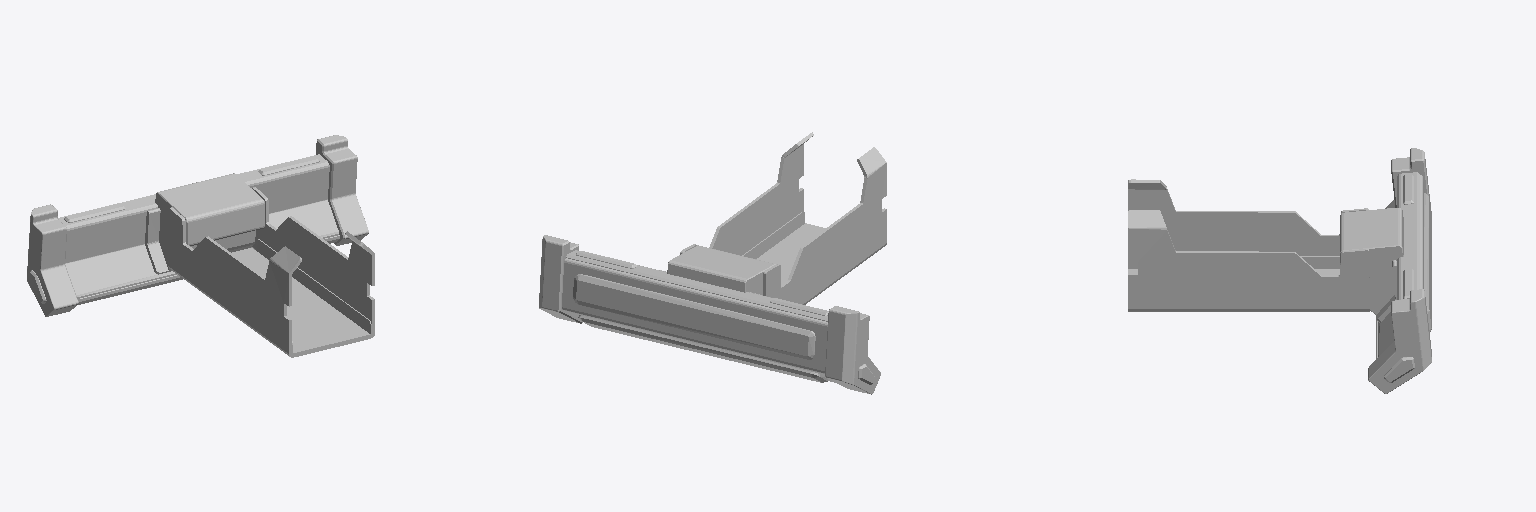
File: 裁判系统.obj
3 renders of one model, left to right at view 1: azimuth 30°, elevation 25°; view 2: azimuth 150°, elevation 25°; view 3: azimuth 270°, elevation 25°, orthographic.
Parts seen in each view (by area): view 1: 45, 2_2.001, 19_19.001, 2.001_2.002, 3_3.002, 81.001, 81, 灯_39, 43; view 2: 灯_39, 2_2.001, 43, 2.001_2.002, 81.001, 19_19.001, 3_3.002, 81, 45; view 3: 2.001_2.002, 2_2.001, 19_19.001, 81, 45, 灯_39, 81.001, 3_3.002, 43.
Part boxes in pixels (left/top/right/bottom): 45: left=58, top=154, right=338, bottom=298; 2_2.001: left=168, top=207, right=331, bottom=357; 19_19.001: left=145, top=173, right=264, bottom=274; 2.001_2.002: left=232, top=187, right=374, bottom=347; 3_3.002: left=236, top=239, right=371, bottom=353; 81.001: left=27, top=204, right=78, bottom=316; 81: left=316, top=135, right=368, bottom=245; 灯_39: left=29, top=156, right=319, bottom=303; 43: left=78, top=235, right=339, bottom=304; 灯_39: left=573, top=251, right=874, bottom=384; 2_2.001: left=763, top=147, right=886, bottom=304; 43: left=562, top=258, right=834, bottom=382; 2.001_2.002: left=680, top=132, right=813, bottom=255; 81.001: left=825, top=306, right=880, bottom=394; 19_19.001: left=660, top=245, right=775, bottom=294; 3_3.002: left=742, top=212, right=825, bottom=284; 81: left=539, top=235, right=582, bottom=323; 45: left=566, top=250, right=827, bottom=321; 2.001_2.002: left=1128, top=210, right=1369, bottom=311; 2_2.001: left=1128, top=179, right=1368, bottom=255; 19_19.001: left=1340, top=208, right=1403, bottom=322; 81: left=1368, top=289, right=1431, bottom=393; 45: left=1378, top=172, right=1419, bottom=356; 灯_39: left=1384, top=174, right=1431, bottom=382; 81.001: left=1385, top=148, right=1431, bottom=214; 3_3.002: left=1128, top=256, right=1339, bottom=274; 43: left=1376, top=175, right=1424, bottom=358.
Bounding box in the file's own units: 253 × 92.67 × 208.